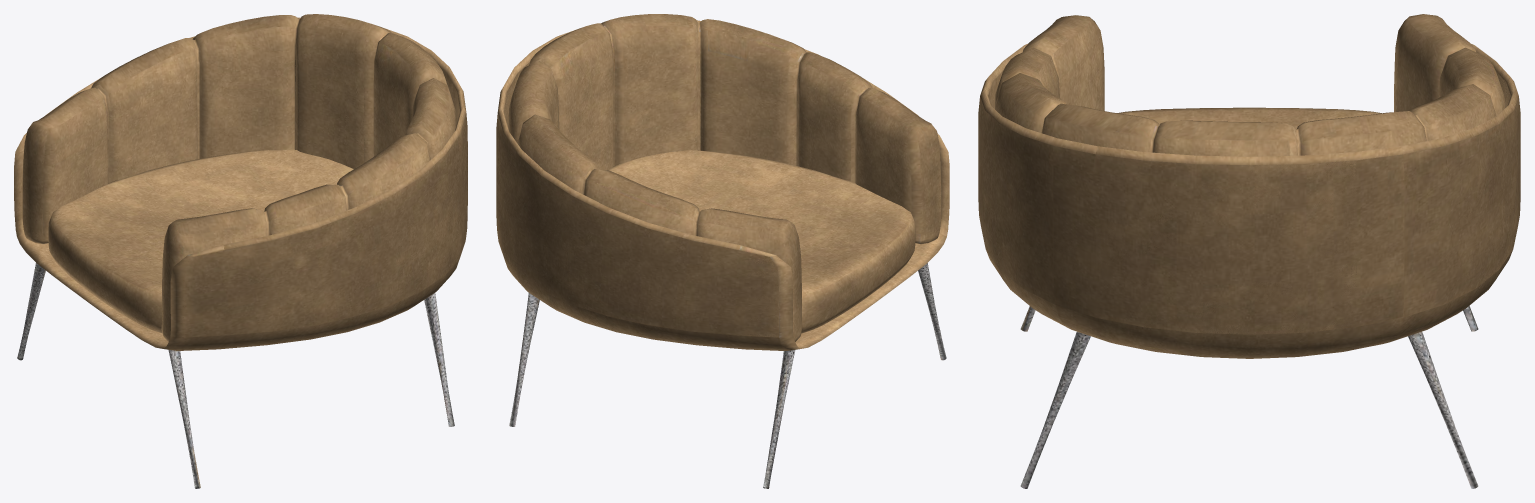
3 views of the same model, side by side, from view 1: azimuth 30°, elevation 25°; view 2: azimuth 150°, elevation 25°; view 3: azimuth 270°, elevation 25° (orthographic). The views are drawn at different scales.
Parts seen in each view (by area): view 1: Cube.001, Cube, Cube.002, Cylinder; view 2: Cube.001, Cube, Cube.002, Cylinder; view 3: Cube, Cube.001, Cylinder, Cube.002.
Boxes of the visible parts, x1,y1,x2,y2 form: Cube.001: [22, 14, 455, 341]; Cube: [14, 17, 467, 350]; Cube.002: [48, 149, 353, 333]; Cylinder: [17, 263, 454, 488]; Cube.001: [508, 14, 941, 341]; Cube: [496, 20, 949, 350]; Cube.002: [608, 150, 915, 333]; Cylinder: [509, 263, 946, 488]; Cube: [978, 43, 1520, 358]; Cube.001: [995, 14, 1505, 156]; Cylinder: [1020, 306, 1478, 488]; Cube.002: [1117, 107, 1381, 129].
Size of the model in its own units: 168 by 143 by 179.
Materials: 1 (1 with a texture image).
